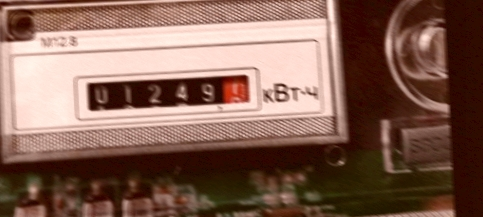0: (93, 84, 108, 105)
1: (120, 83, 133, 105)
2: (145, 82, 162, 105)
4: (174, 81, 188, 102)
7: (228, 75, 242, 96)
9: (200, 82, 214, 103)
screen: (70, 63, 264, 123)
